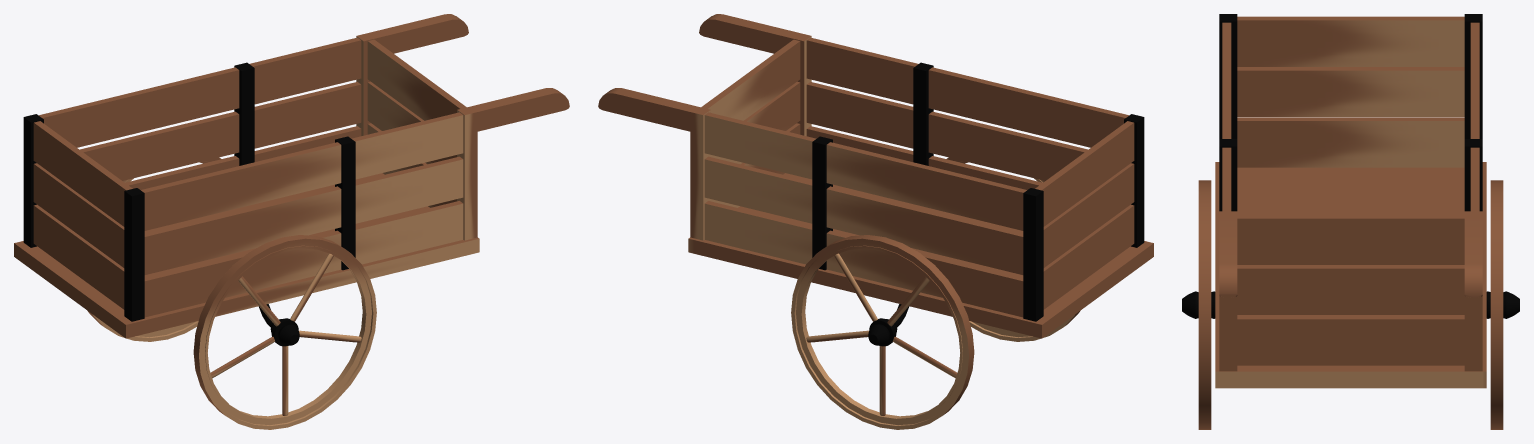
File: cart.fbx
3 renders of one model, left to right at view 1: azimuth 30°, elevation 25°; view 2: azimuth 150°, elevation 25°; view 3: azimuth 270°, elevation 25°, orthographic. The views are drawn at different scales.
Visible parts, largest first — view 1: Cube.075, Cylinder.052, Cube.087; view 2: Cube.075, Cylinder.052, Cube.087; view 3: Cube.075, Cylinder.052, Cube.087.
Boxes of the visible parts, bbox=[...] form: Cube.075: bbox=[14, 14, 569, 338]; Cylinder.052: bbox=[88, 157, 376, 429]; Cube.087: bbox=[258, 304, 299, 346]; Cube.075: bbox=[598, 14, 1153, 338]; Cylinder.052: bbox=[791, 157, 1079, 429]; Cube.087: bbox=[868, 304, 909, 346]; Cube.075: bbox=[1215, 14, 1486, 388]; Cylinder.052: bbox=[1198, 180, 1503, 429]; Cube.087: bbox=[1182, 291, 1519, 318].
Size of the model in its own units: 289 by 162 by 156.
2 materials, 1 textured.
